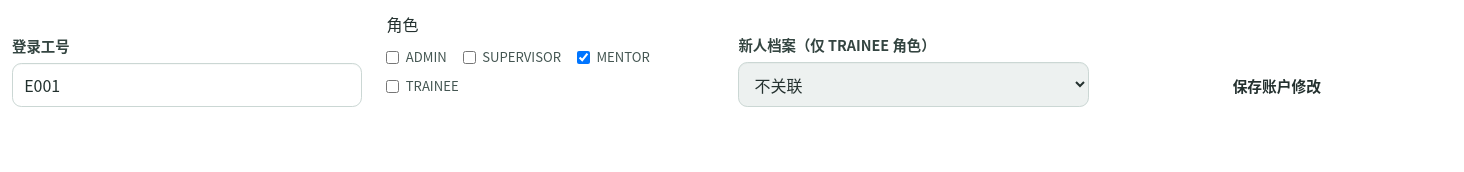
Scenario: ADMIN forms › keeps trainee and staff roles mutually exclusive while retaining a failed edit
Click the checkbox labelled "TRAINEE".
click(393, 86)  # box [386,80,399,93]
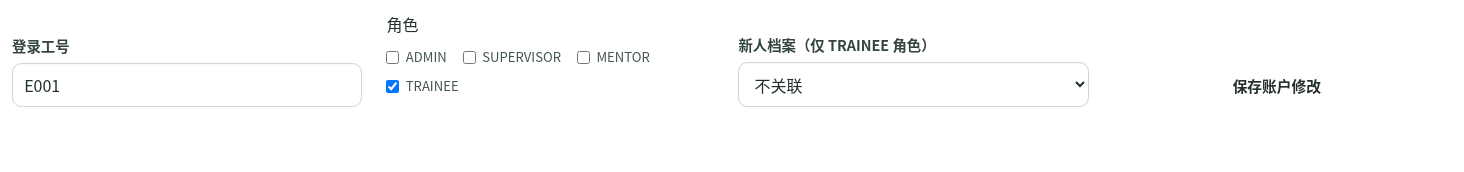
Check: the checkbox labelled "MENTOR" is not checked, box [577,50,590,64]
Select "小王 · E001" in the dropdown labelled "新人档案（仅 TRAINEE 角色）" at (914, 85), box [738,62,1089,107]
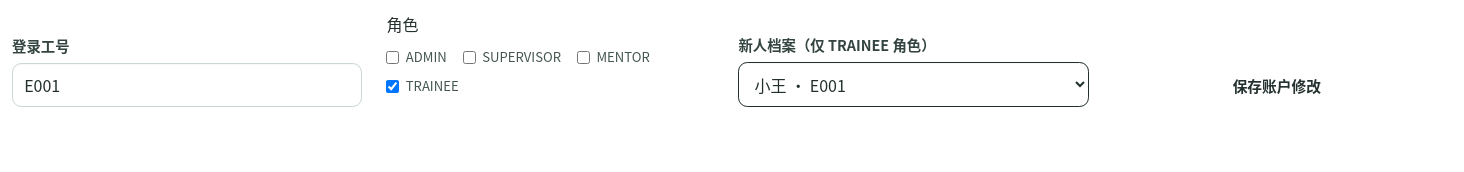
Click the button "保存账户修改".
click(1277, 87)  # box [1102,66,1452,107]
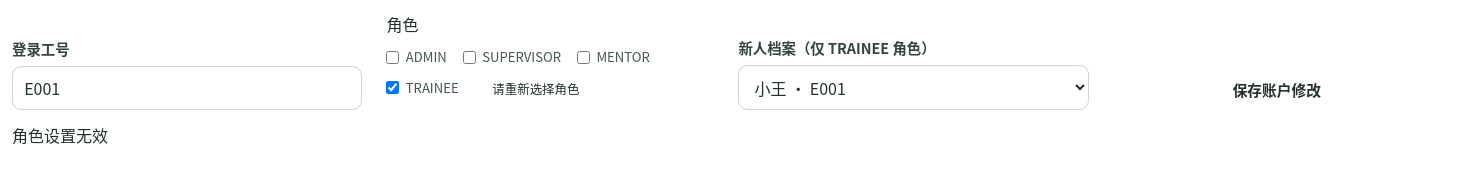
Check: the checkbox labelled "TRAINEE" is checked, box [386,81,399,94]
Check: the list item "请重新选择角色" is shown, box [492,80,580,99]
